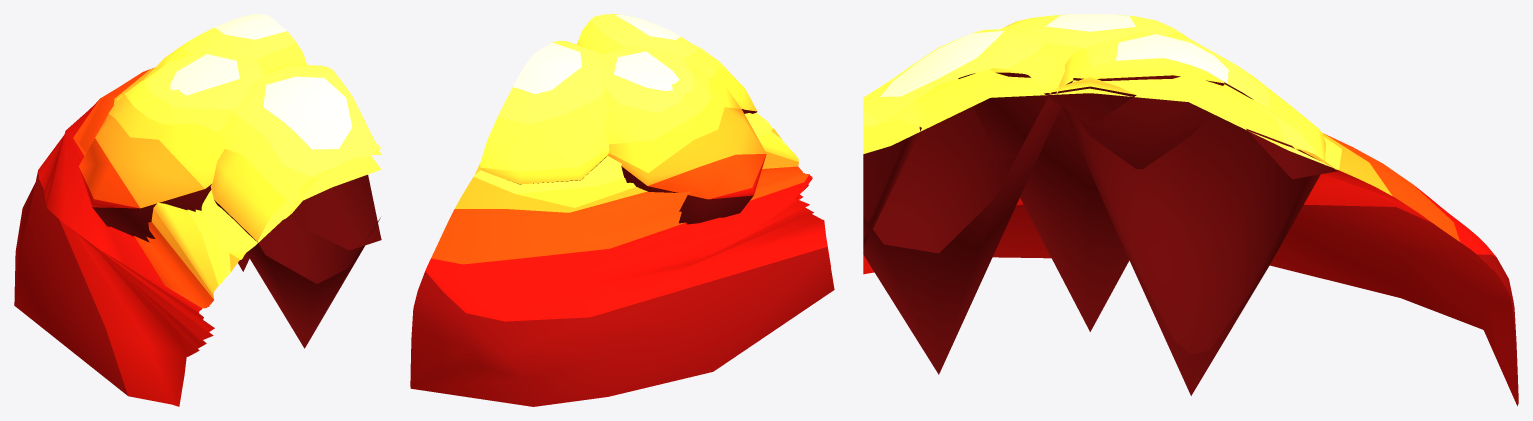
Rendered from shot_dflame_56.glb.
The picture shows the model from 3 angles, left to right: view 1: azimuth 30°, elevation 25°; view 2: azimuth 150°, elevation 25°; view 3: azimuth 270°, elevation 25°; orthographic projection. The views are drawn at different scales.
Visible parts, largest first — view 1: dflame_big1_fire_b56, dflame_big1_billow2_b56, dflame_big1_billow3_b56, dflame_big1_billow4_b56, dflame_big1_billow1_b56; view 2: dflame_big1_fire_b56, dflame_big1_billow3_b56, dflame_big1_billow1_b56, dflame_big1_billow2_b56; view 3: dflame_big1_billow1_b56, dflame_big1_fire_b56, dflame_big1_billow2_b56, dflame_big1_billow3_b56, dflame_big1_billow4_b56, dflame_big1_billow0_b56, dflame_big1_billow6_b56.
Part boxes in pixels (box(x1,y1,x2,y2)): dflame_big1_fire_b56: box(14, 67, 381, 406); dflame_big1_billow2_b56: box(210, 64, 381, 348); dflame_big1_billow3_b56: box(78, 49, 271, 242); dflame_big1_billow4_b56: box(290, 142, 381, 250); dflame_big1_billow1_b56: box(143, 14, 306, 271); dflame_big1_fire_b56: box(410, 112, 834, 406); dflame_big1_billow3_b56: box(600, 46, 766, 224); dflame_big1_billow1_b56: box(480, 40, 609, 184); dflame_big1_billow2_b56: box(576, 14, 757, 113); dflame_big1_billow1_b56: box(1056, 32, 1325, 395); dflame_big1_fire_b56: box(863, 69, 1518, 406); dflame_big1_billow2_b56: box(863, 29, 1073, 374); dflame_big1_billow3_b56: box(958, 14, 1224, 331); dflame_big1_billow4_b56: box(863, 100, 921, 247); dflame_big1_billow0_b56: box(1044, 76, 1136, 126); dflame_big1_billow6_b56: box(1246, 128, 1337, 179).
Bounding box in the file's own units: 7.28 × 7.66 × 12.99.
